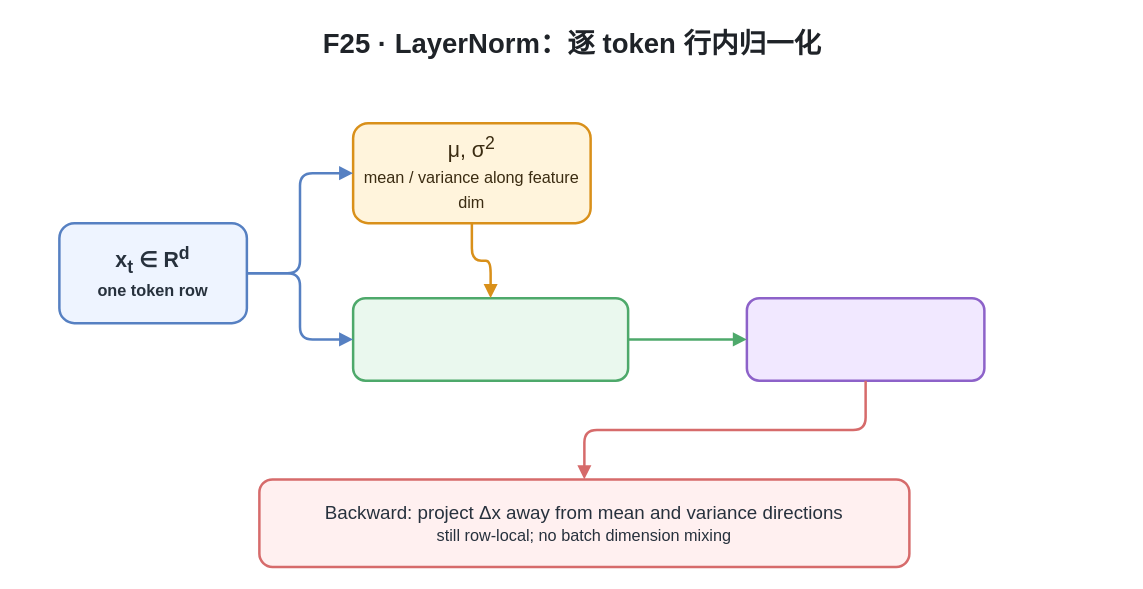
The diagram is 1143 pixels wide and 589 high, and some of its shapes have lost their labels. The box of each missing label's shape, as (x1, y1, x2, y2) in pixels:
x̂ = (x - μ) / √(σ² + ε): (351, 296, 629, 381)
y = γ ⊙ x̂ + β: (745, 296, 985, 381)
